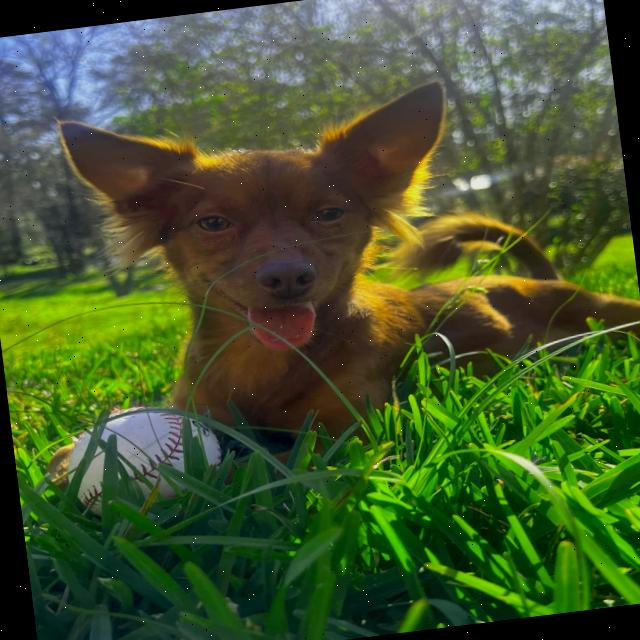chihuahua_dog: (46, 58, 496, 394)
